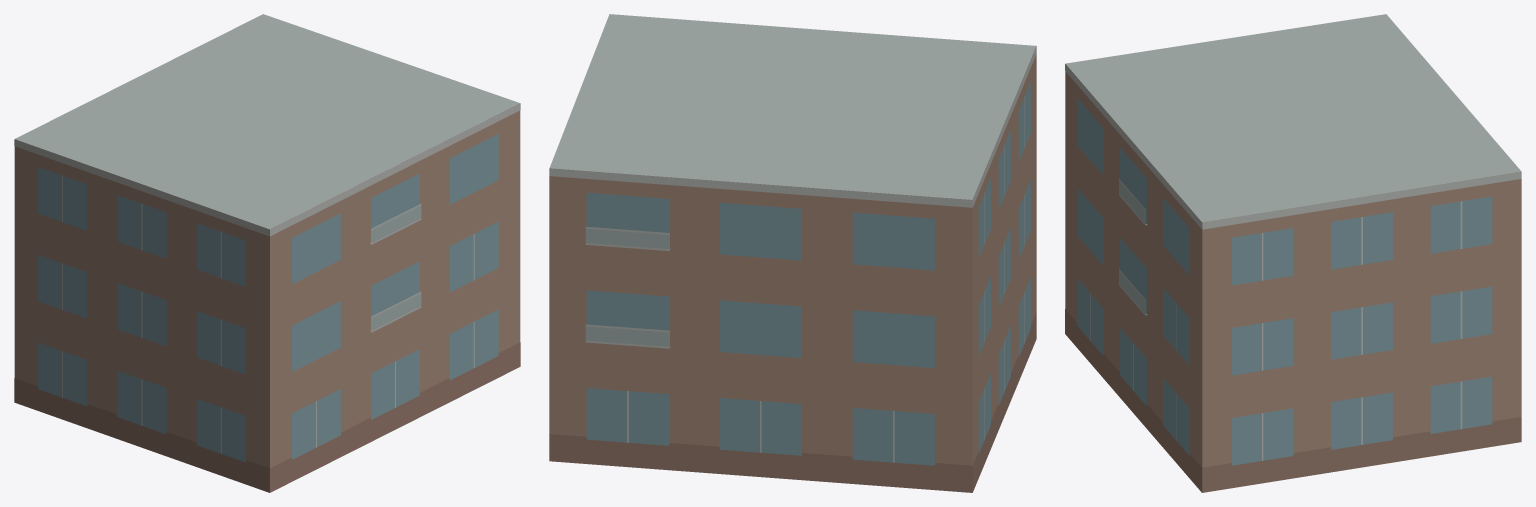
Rendered from survey-upis-32584546.glb.
3 renders of one model, left to right at view 1: azimuth 30°, elevation 25°; view 2: azimuth 150°, elevation 25°; view 3: azimuth 270°, elevation 25°, orthographic. The views are drawn at different scales.
Visible parts, largest first — view 1: survey-upis-32584546.tmp; view 2: survey-upis-32584546.tmp; view 3: survey-upis-32584546.tmp.
Boxes of the visible parts, x1,y1,x2,y2 form: survey-upis-32584546.tmp: (14,14,520,492); survey-upis-32584546.tmp: (549,14,1036,492); survey-upis-32584546.tmp: (1065,14,1521,492).
Bounding box in the file's own units: 15.14 × 9.15 × 14.01.
